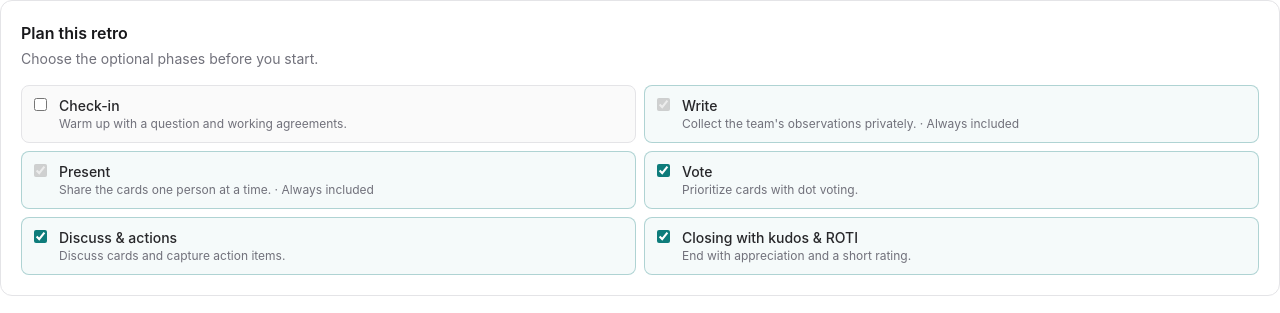
Test case: the facilitator can toggle an optional phase
The width and height of the screenshot is (1280, 313).
Click the checkbox with test id "phase-plan-vote" at point(664, 170), box 657,164 -> 670,177
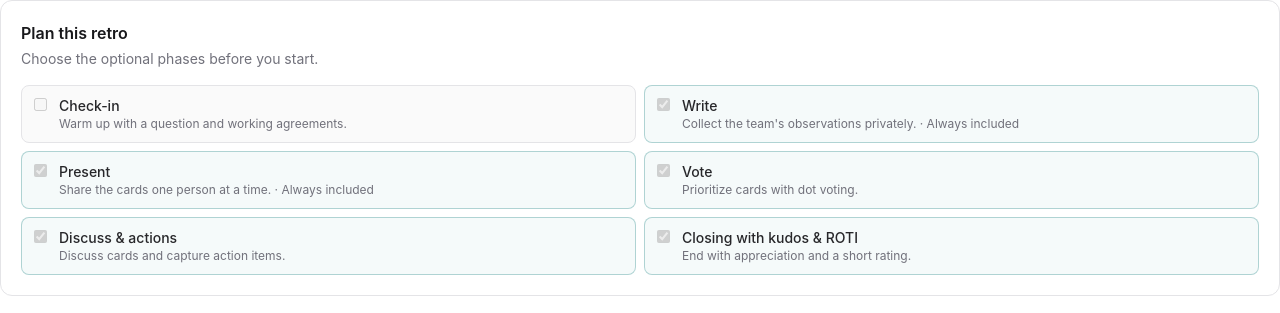
expect the checkbox with test id "phase-plan-close" is disabled: met, box 657,230 -> 670,243
